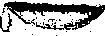Basket: (0, 1, 105, 32)
